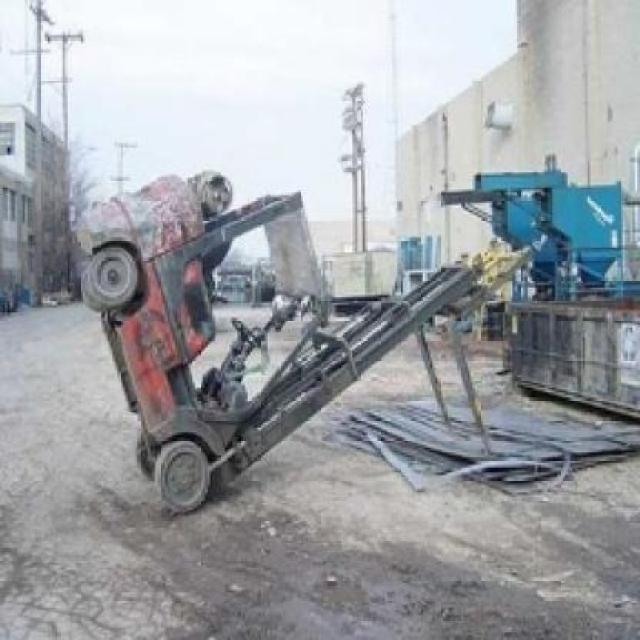forklift: (73, 165, 530, 508)
